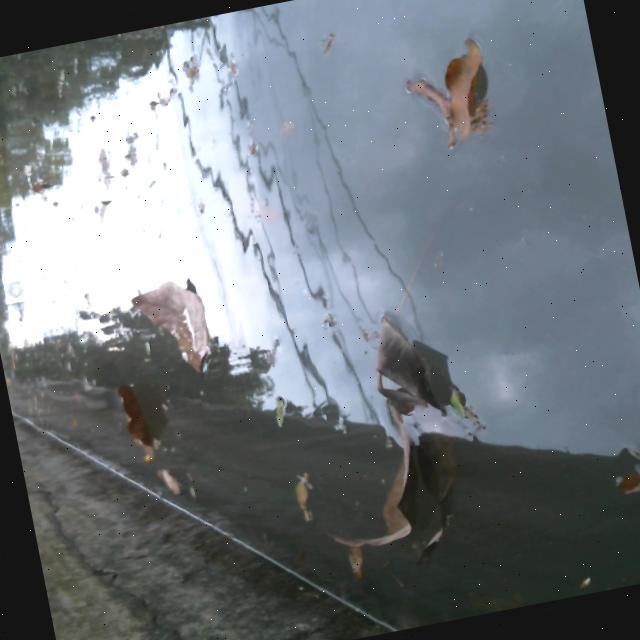Big-leaf: (314, 421, 475, 572), (346, 305, 470, 428), (124, 264, 240, 384), (426, 15, 511, 155), (109, 369, 171, 466)
Small-leaf: (392, 63, 461, 145), (602, 438, 640, 525), (284, 464, 329, 531), (152, 460, 209, 506), (262, 393, 298, 439), (240, 191, 283, 229), (181, 52, 213, 93), (24, 171, 56, 204), (311, 27, 344, 57), (272, 114, 307, 141)
